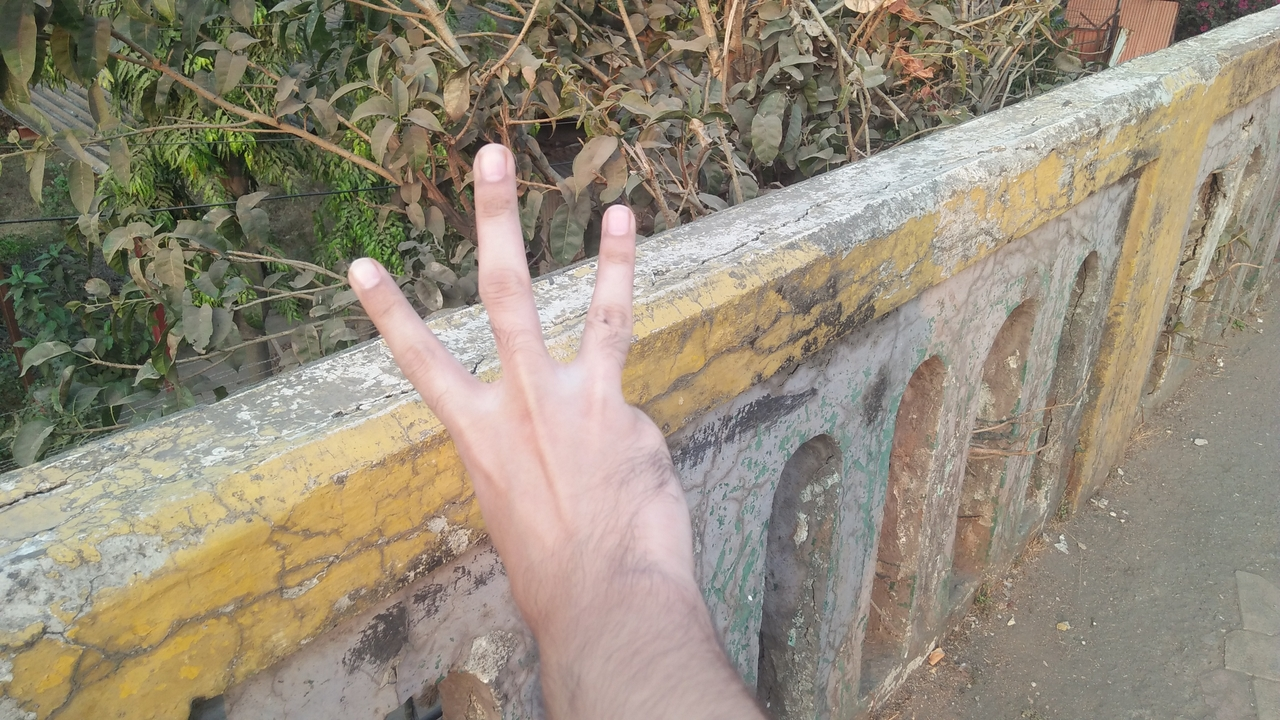fingertip: (336, 246, 394, 306), (464, 136, 520, 192), (594, 196, 640, 242)
